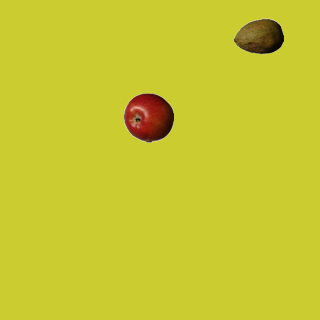Apple Braeburn: (123, 92, 173, 142)
Papaya: (233, 11, 283, 61)
